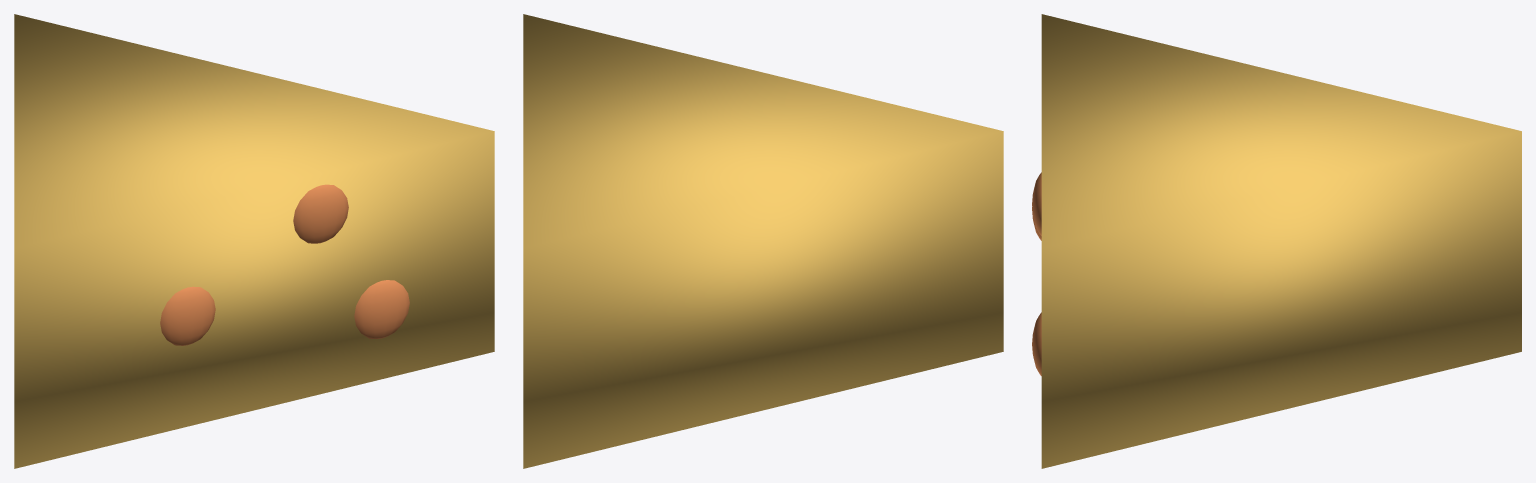
The model's file is word-cheese.glb.
The picture shows the model from 3 angles, left to right: view 1: azimuth 30°, elevation 25°; view 2: azimuth 150°, elevation 25°; view 3: azimuth 270°, elevation 25°; orthographic projection.
Parts seen in each view (by area): view 1: cheese wedge, cheese hole.001, cheese hole.002, cheese hole; view 2: cheese wedge; view 3: cheese wedge.
Part boxes in pixels (x1,y1,x2,y2): cheese wedge: [14, 14, 494, 468]; cheese hole.001: [293, 184, 348, 243]; cheese hole.002: [354, 280, 409, 338]; cheese hole: [160, 286, 215, 345]; cheese wedge: [523, 14, 1003, 468]; cheese wedge: [1041, 14, 1521, 468].
Bounding box in the file's own units: 0.866 × 0.38 × 0.765.
